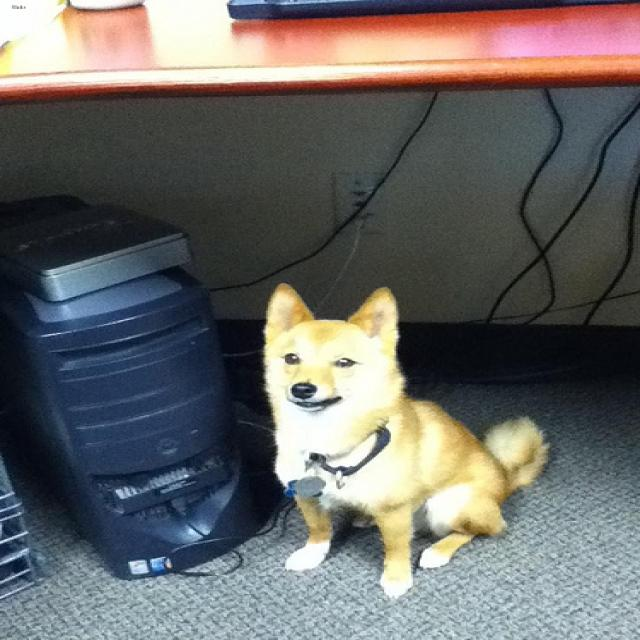dog-shiba_inu: (251, 276, 558, 607)
